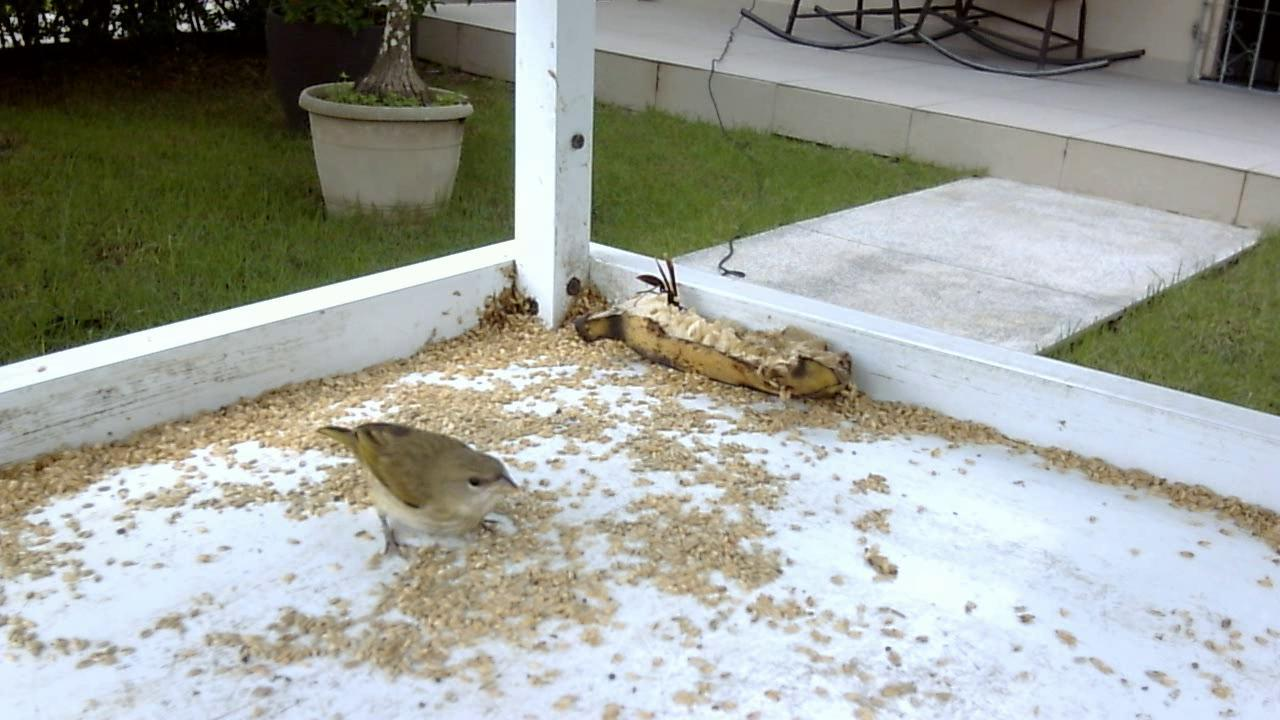canario_do_amazonas: (307, 411, 521, 570)
